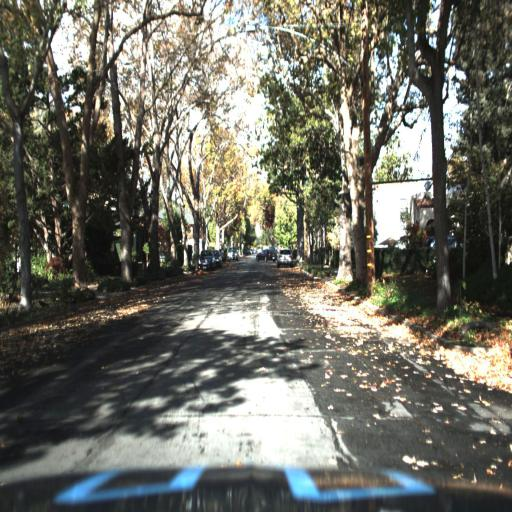car: (196, 246, 217, 272), (276, 246, 296, 271), (254, 247, 275, 264), (212, 247, 222, 271)
